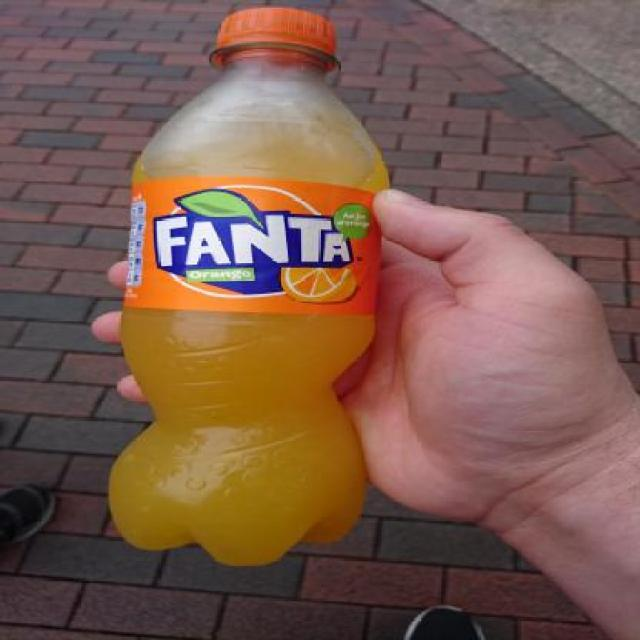Fanta: (104, 8, 398, 566)
